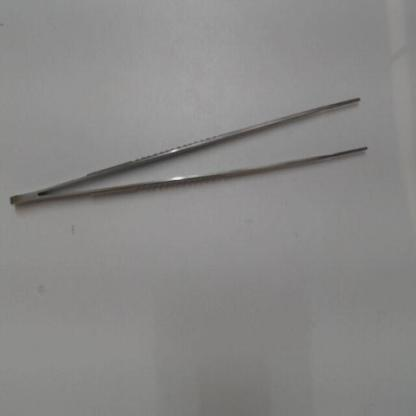DeBakey Dissector: (7, 67, 392, 222)
